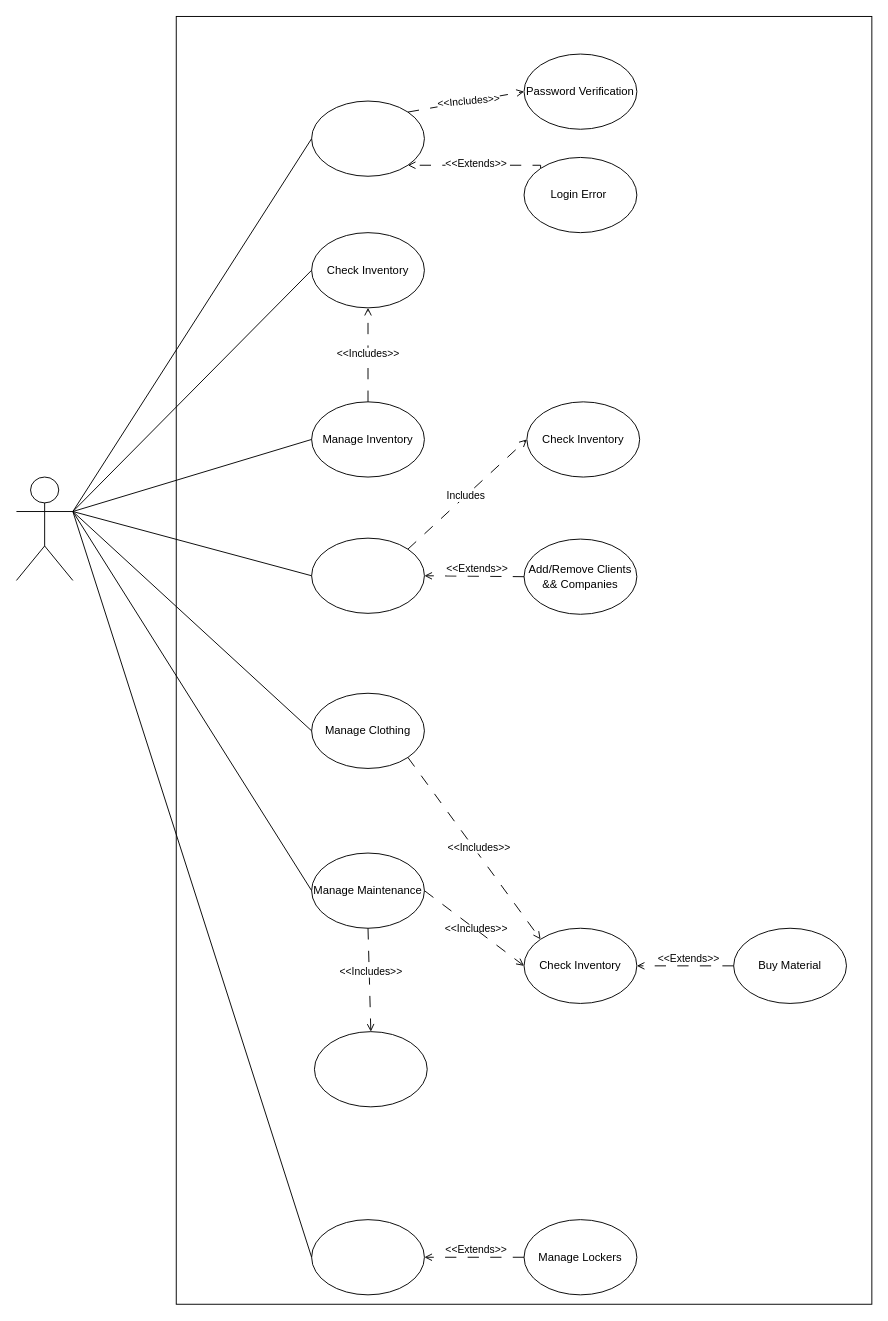
The diagram is 888 pixels wide and 1321 high, and some of its shapes have lost their labels. The centre of each missing label's shape, as x and y in pixels:
"Close Ticket" belongs at point 370,1069.
"Login" belongs at point 367,138.
"Manage External Courses" belongs at point 367,575.
"Manage Students" belongs at point 367,1257.
"Technician" belongs at point 44,528.
